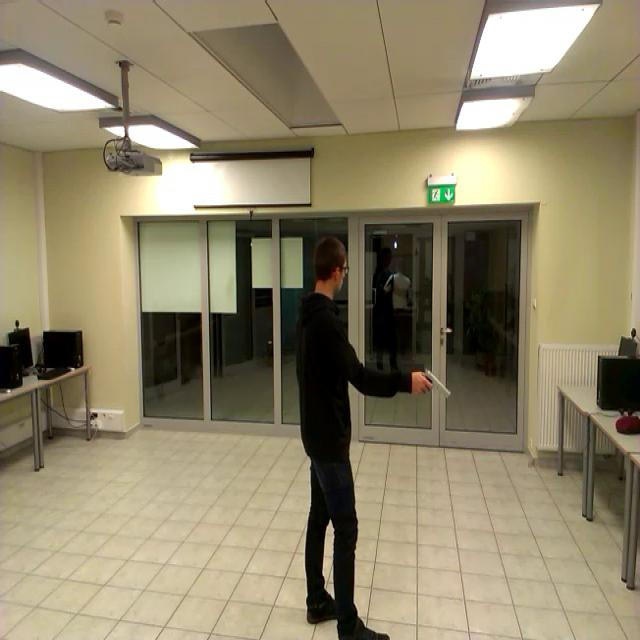handgun: (418, 359, 450, 411)
